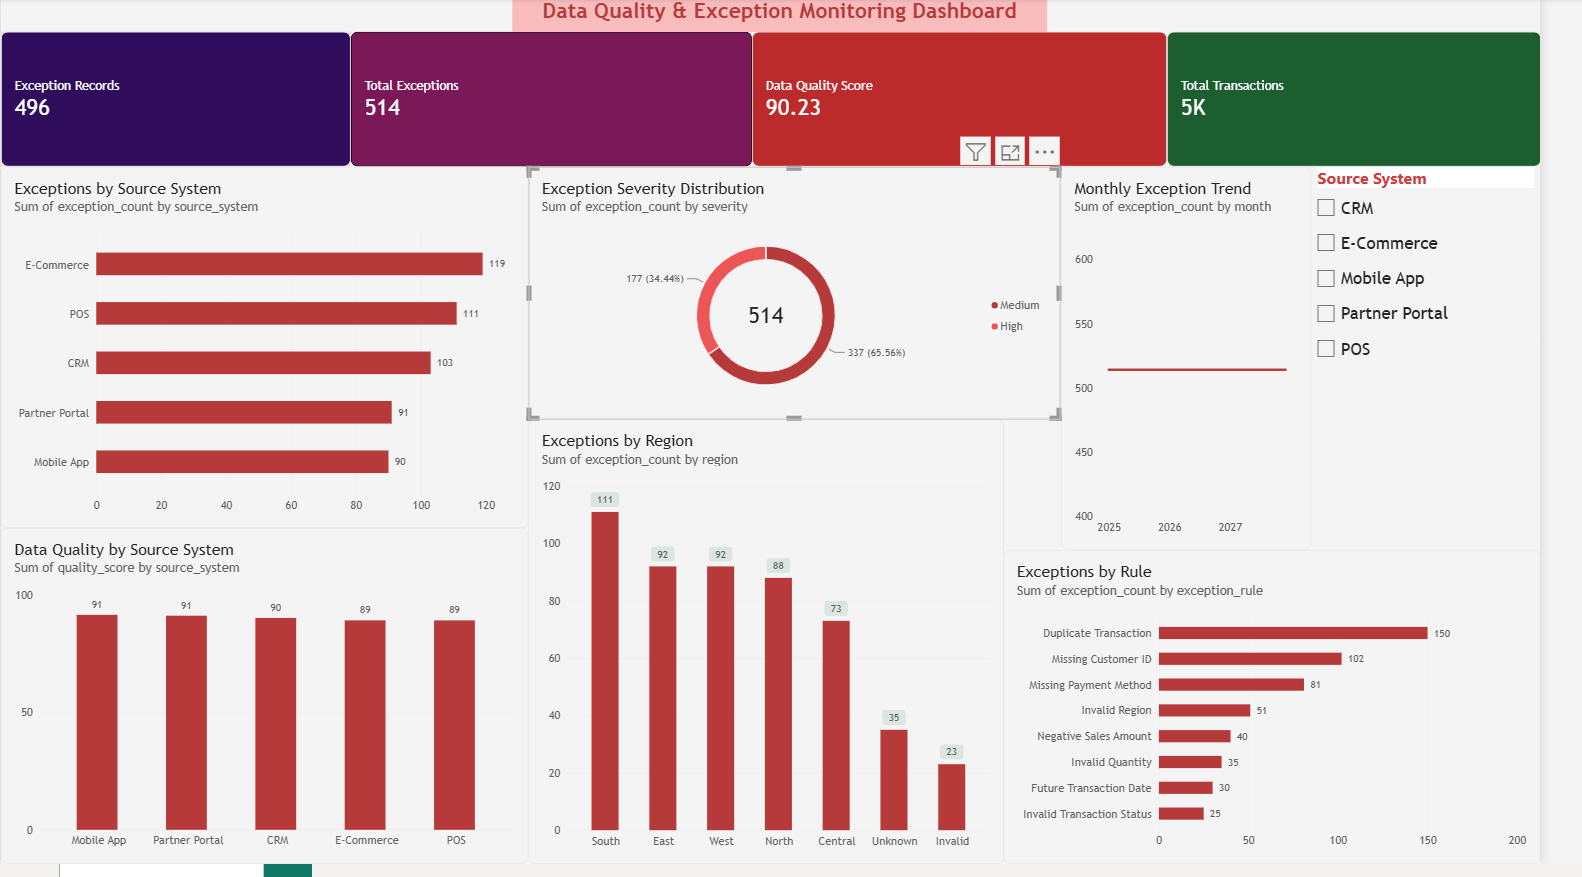

This screenshot's page, from the dashboard's own definition file:
{"tool":"powerbi","page":{"name":"Data Quality Overview","canvas":[1920,1080],"ordinal":0},"visuals":[{"type":"cardVisual","fields":{"Data":["Sum(vw_quality_summary.quality_score)"]},"box":[936.9,42.1,517.6,168.4],"z":0},{"type":"cardVisual","fields":{"Data":["Sum(vw_quality_summary.total_records)"]},"box":[1454.5,42.1,466.1,168.4],"z":1000},{"type":"cardVisual","fields":{"Data":["Sum(vw_quality_summary.exception_records)"]},"box":[0,42.1,436.5,168.4],"z":2000},{"type":"cardVisual","fields":{"Data":["Sum(vw_exception_analysis.exception_count)"]},"box":[436.5,42.1,500.4,168.4],"z":3000},{"type":"clusteredBarChart","title":"Exceptions by Rule","fields":{"Category":["vw_exception_analysis.exception_rule"],"Y":["Sum(vw_exception_analysis.exception_count)"]},"box":[1250.6,689,669.8,390.7],"z":4000},{"type":"clusteredBarChart","title":"Exceptions by Source System","fields":{"Category":["vw_exception_by_source.source_system"],"Y":["Sum(vw_exception_by_source.exception_count)"]},"box":[0,210.5,657.9,450.5],"z":5000},{"type":"clusteredColumnChart","title":"Exceptions by Region","fields":{"Category":["vw_exception_by_region.region"],"Y":["Sum(vw_exception_by_region.exception_count)"]},"box":[657.6,525,593,554.7],"z":6000},{"type":"lineChart","title":"Monthly Exception Trend","fields":{"Category":["vw_monthly_exceptions.month"],"Y":["Sum(vw_exception_by_source.exception_count)"]},"box":[1322.1,211,312.2,477.9],"z":7000},{"type":"clusteredColumnChart","title":"Data Quality by Source System","fields":{"Category":["vw_source_quality.source_system"],"Y":["Sum(vw_source_quality.quality_score)"]},"box":[0,661,657.6,418.6],"z":8000},{"type":"donutChart","title":"Exception Severity Distribution","fields":{"Category":["vw_exception_severity.severity"],"Y":["Sum(vw_exception_severity.exception_count)"]},"box":[657.6,211,664.5,314],"z":9000},{"type":"textbox","box":[637.6,0,667.2,42.1],"z":10000},{"type":"slicer","fields":{"Values":["vw_source_quality.source_system"]},"box":[1634.3,211,286,268.6],"z":11000}]}

Visuals, with their boxes in screenshot pixels (x1, y1, x2, y2), scaled from the page's 1920x1080 canvas onto the 1582x877 screenshot:
cardVisual - Sum(vw_quality_summary.quality_score): l=772, t=34, r=1198, b=171
cardVisual - Sum(vw_quality_summary.total_records): l=1198, t=34, r=1581, b=171
cardVisual - Sum(vw_quality_summary.exception_records): l=0, t=34, r=360, b=171
cardVisual - Sum(vw_exception_analysis.exception_count): l=360, t=34, r=772, b=171
"Exceptions by Rule" clusteredBarChart: l=1030, t=559, r=1581, b=876
"Exceptions by Source System" clusteredBarChart: l=0, t=171, r=542, b=537
"Exceptions by Region" clusteredColumnChart: l=542, t=426, r=1030, b=876
"Monthly Exception Trend" lineChart: l=1089, t=171, r=1347, b=559
"Data Quality by Source System" clusteredColumnChart: l=0, t=537, r=542, b=876
"Exception Severity Distribution" donutChart: l=542, t=171, r=1089, b=426
textbox: l=525, t=0, r=1075, b=34
slicer - vw_source_quality.source_system: l=1347, t=171, r=1581, b=389
